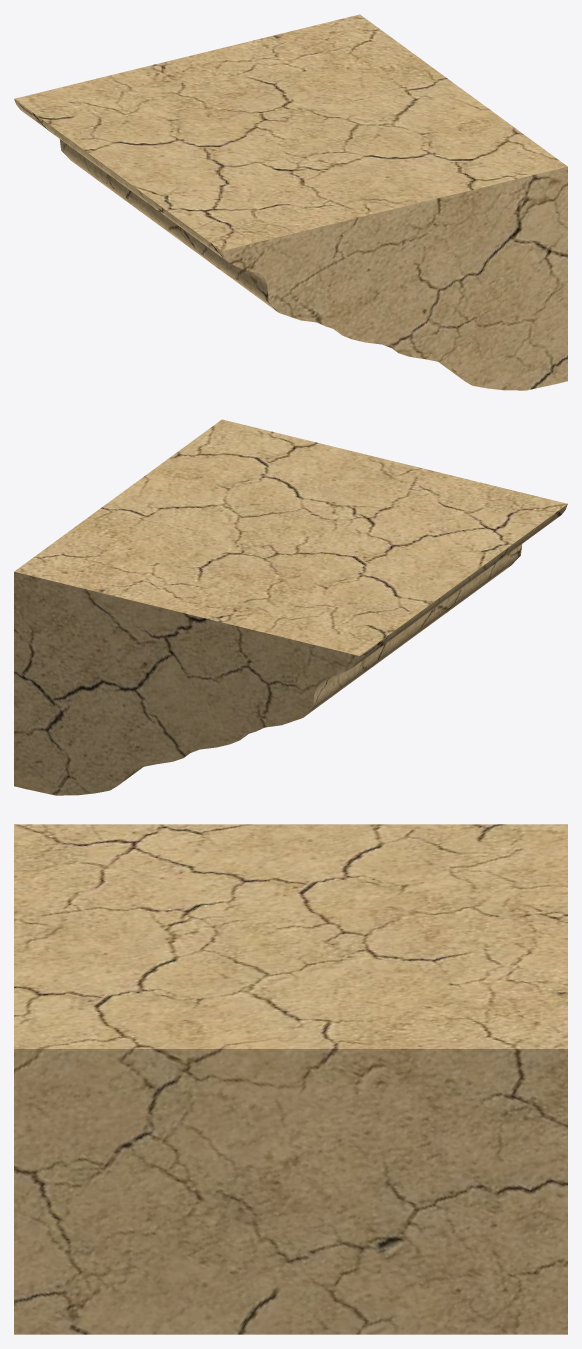
The model's file is plataformaCurvaCamello.fbx.
3 renders of one model, top to bottom at view 1: azimuth 30°, elevation 25°; view 2: azimuth 150°, elevation 25°; view 3: azimuth 270°, elevation 25°, orthographic. The views are drawn at different scales.
Parts seen in each view (by area): view 1: plataformaCurvaCamello; view 2: plataformaCurvaCamello; view 3: plataformaCurvaCamello.
Part boxes in pixels (x1=…): plataformaCurvaCamello: x1=14, y1=14, x2=567, y2=390; plataformaCurvaCamello: x1=14, y1=419, x2=567, y2=795; plataformaCurvaCamello: x1=14, y1=824, x2=567, y2=1334.
Size of the model in its own units: 2.88 by 1.71 by 3.
1 material, 1 textured.
